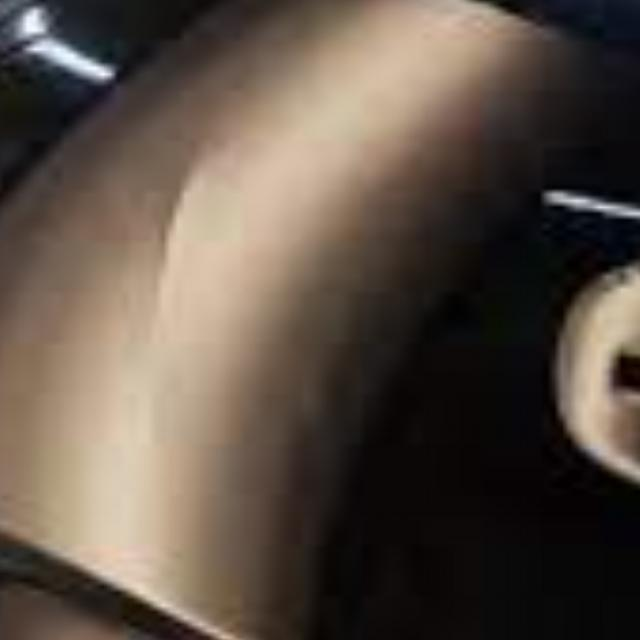dents: (128, 110, 214, 364)
